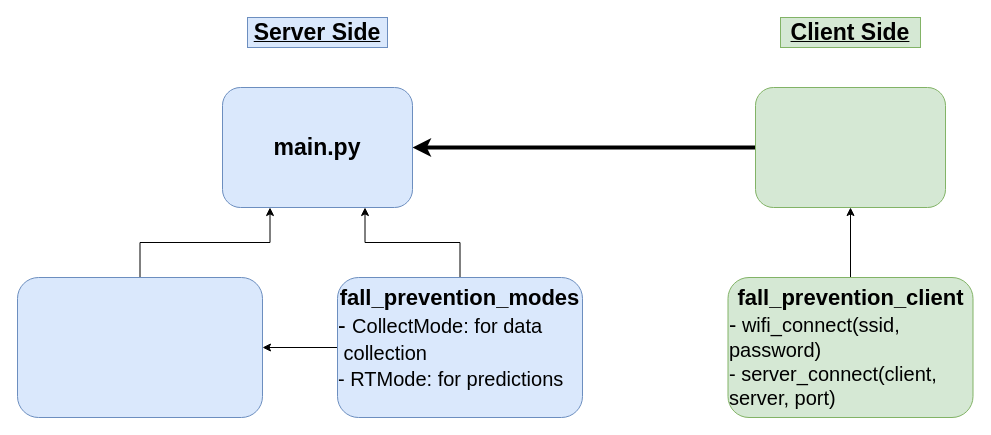
This 991x435 diagram has some shape labels left out. Here are the shapes that lost their labels. From the top down, the centre of each, then its label:
At point 850,147: "main.ino".
At point 139,347: "fall_prevention_server - Server.start(addr, num_client, operating mode)".
